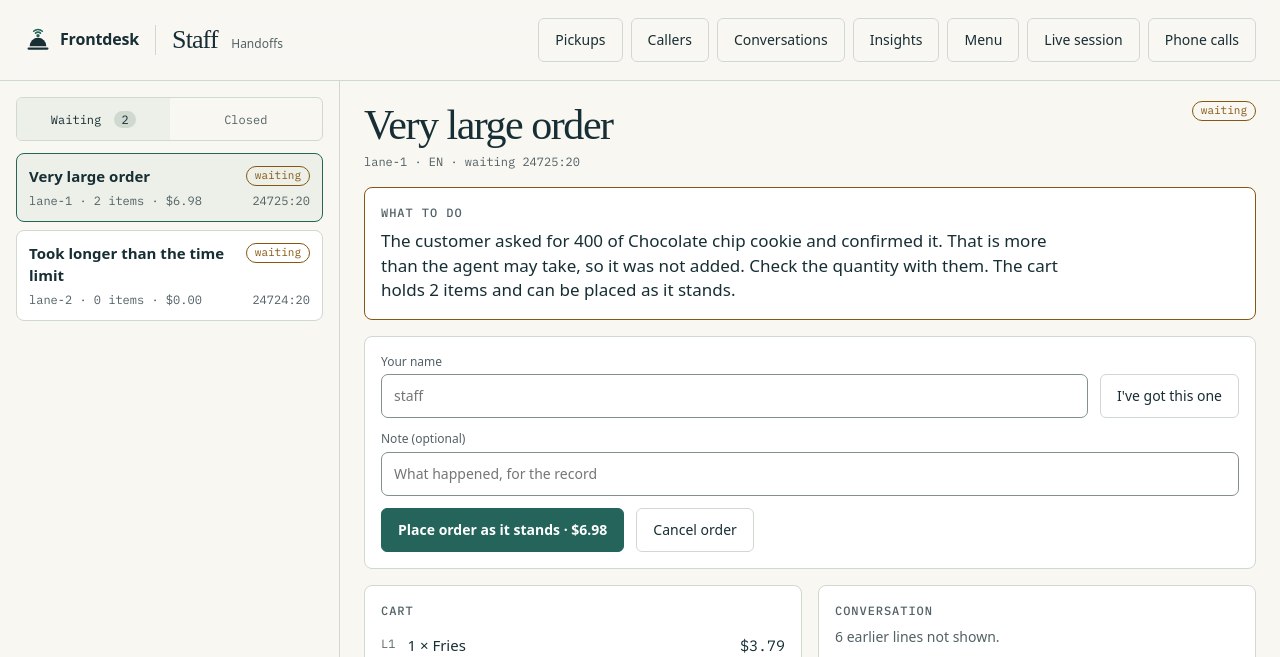
Test: the staff screen › places the order as it stands and shows its number
Type "Two items only." into the field labelled "Note (optional)" at coordinates (810, 474), box [381,452,1239,496]
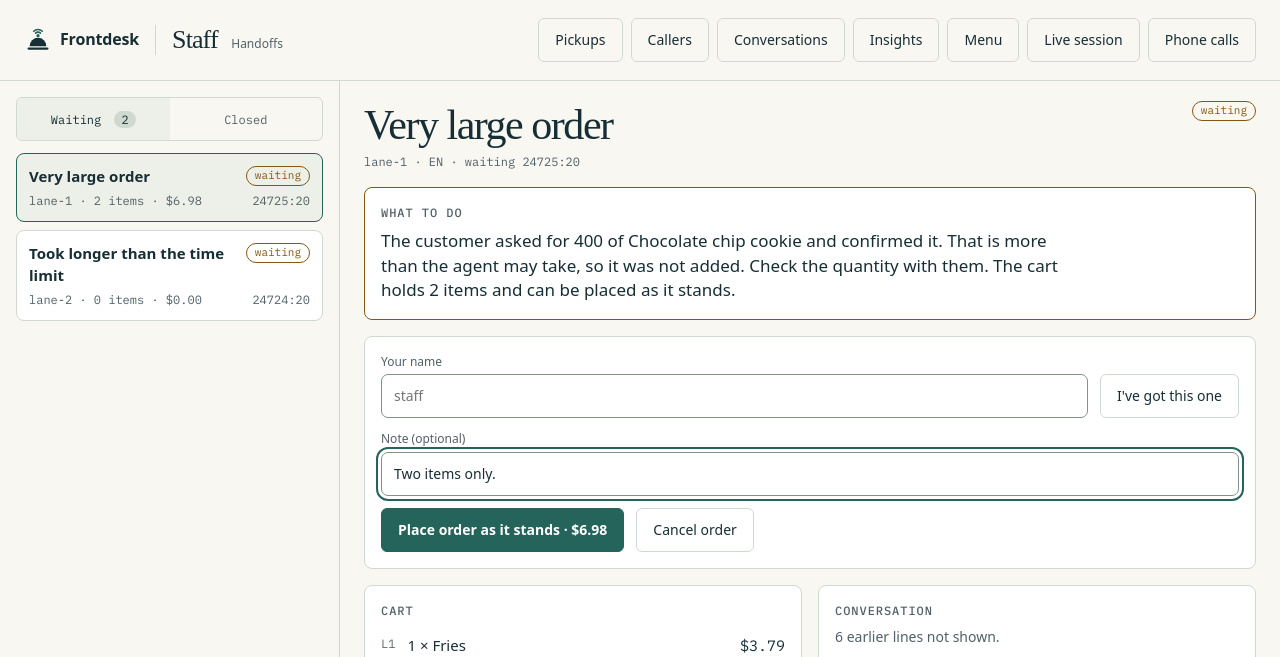
Click the button "Place order as it stands · $6.98" at coordinates (503, 530), box [381,508,624,552]
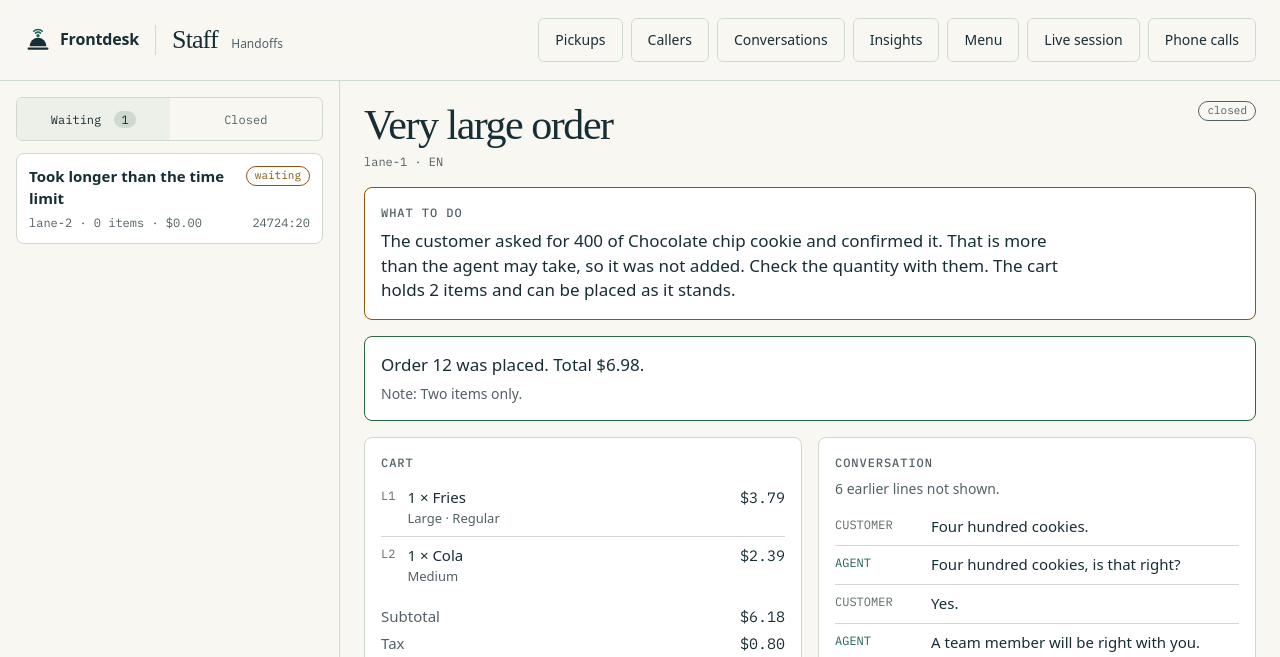
Expected: the element named "Outcome" shows "Order 12 was placed. Total $6.98.", [364,336,1256,421]
Expected: the element named "Outcome" shows "Note: Two items only.", [364,336,1256,421]
Expected: the element "Actions" is gone
